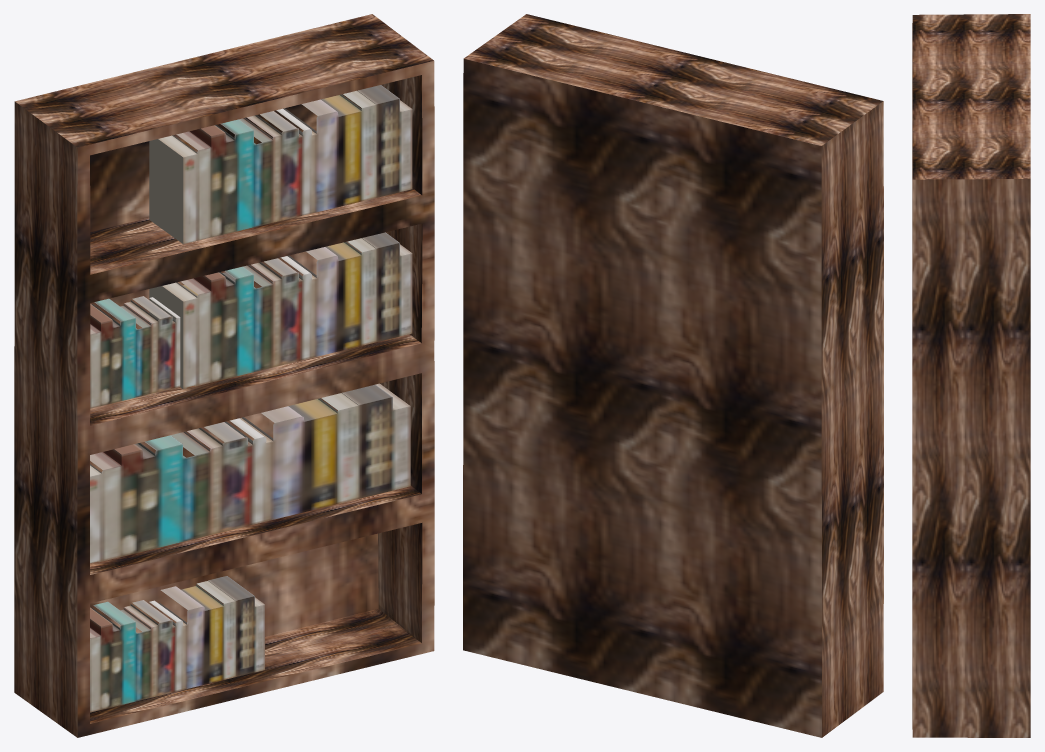
The model's file is Shelf.fbx.
The picture shows the model from 3 angles, left to right: view 1: azimuth 30°, elevation 25°; view 2: azimuth 150°, elevation 25°; view 3: azimuth 270°, elevation 25°; orthographic projection. The views are drawn at different scales.
Parts seen in each view (by area): view 1: MeshBaker_MeshBaker_mesh_mesh; view 2: MeshBaker_MeshBaker_mesh_mesh; view 3: MeshBaker_MeshBaker_mesh_mesh.
Part boxes in pixels (x1=…): MeshBaker_MeshBaker_mesh_mesh: x1=14, y1=14, x2=434, y2=737; MeshBaker_MeshBaker_mesh_mesh: x1=463, y1=14, x2=883, y2=737; MeshBaker_MeshBaker_mesh_mesh: x1=912, y1=14, x2=1030, y2=737.
Bounding box in the file's own units: 260 × 409 × 78.67.
